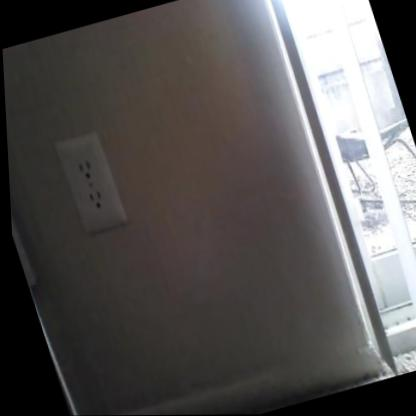OUTLET: (52, 130, 129, 235)
